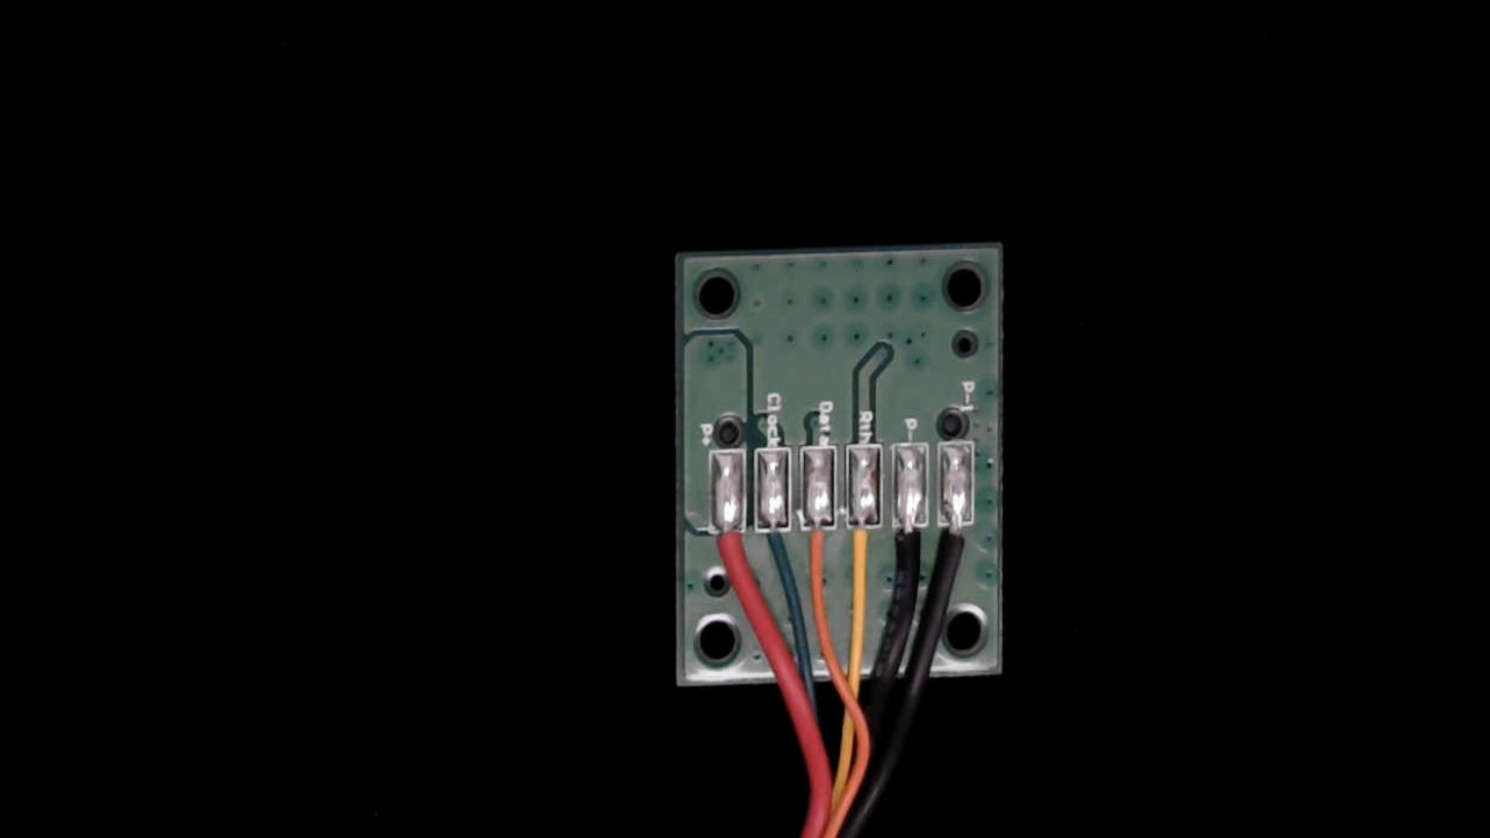Black: (893, 505, 927, 593)
Black1: (937, 503, 977, 592)
Green: (753, 508, 794, 581)
Orange: (801, 508, 838, 593)
Red: (710, 508, 746, 600)
Yellow: (845, 505, 886, 604)
